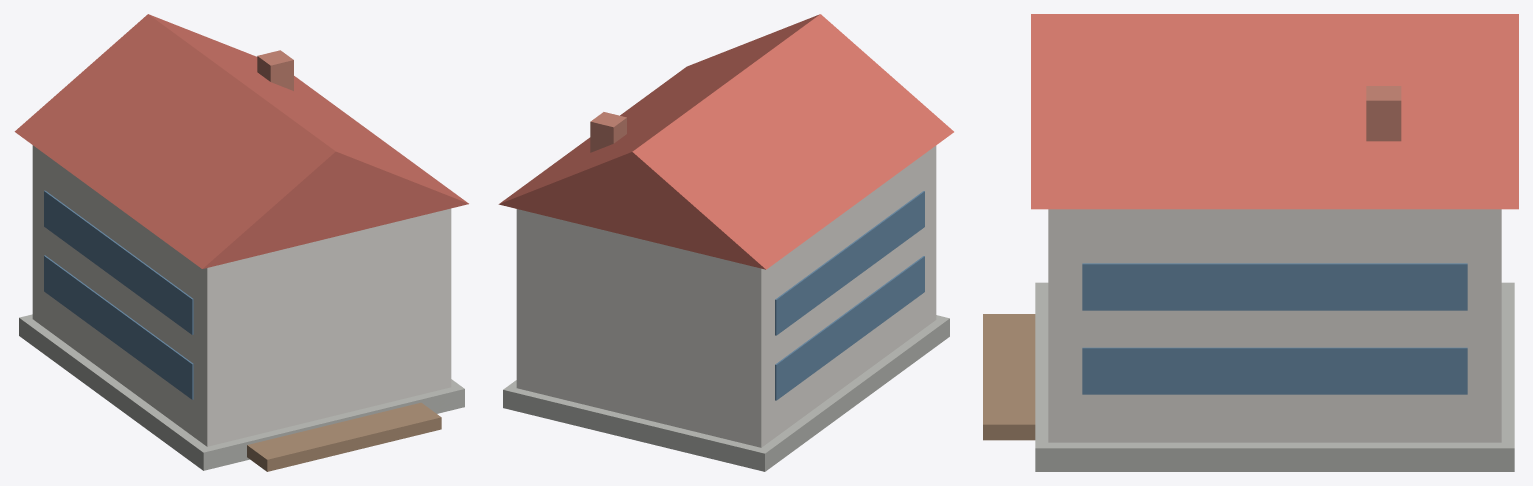
Rendered from farmhouse_two_story.glb.
3 renders of one model, left to right at view 1: azimuth 30°, elevation 25°; view 2: azimuth 150°, elevation 25°; view 3: azimuth 270°, elevation 25°, orthographic. The views are drawn at different scales.
Parts seen in each view (by area): view 1: farmhouse_two_story; view 2: farmhouse_two_story; view 3: farmhouse_two_story.
Part boxes in pixels (left/top/right/bottom): farmhouse_two_story: left=14, top=14, right=468, bottom=471; farmhouse_two_story: left=498, top=14, right=953, bottom=471; farmhouse_two_story: left=983, top=14, right=1518, bottom=471.
Size of the model in its own units: 9.2 by 9.5 by 12.3.
